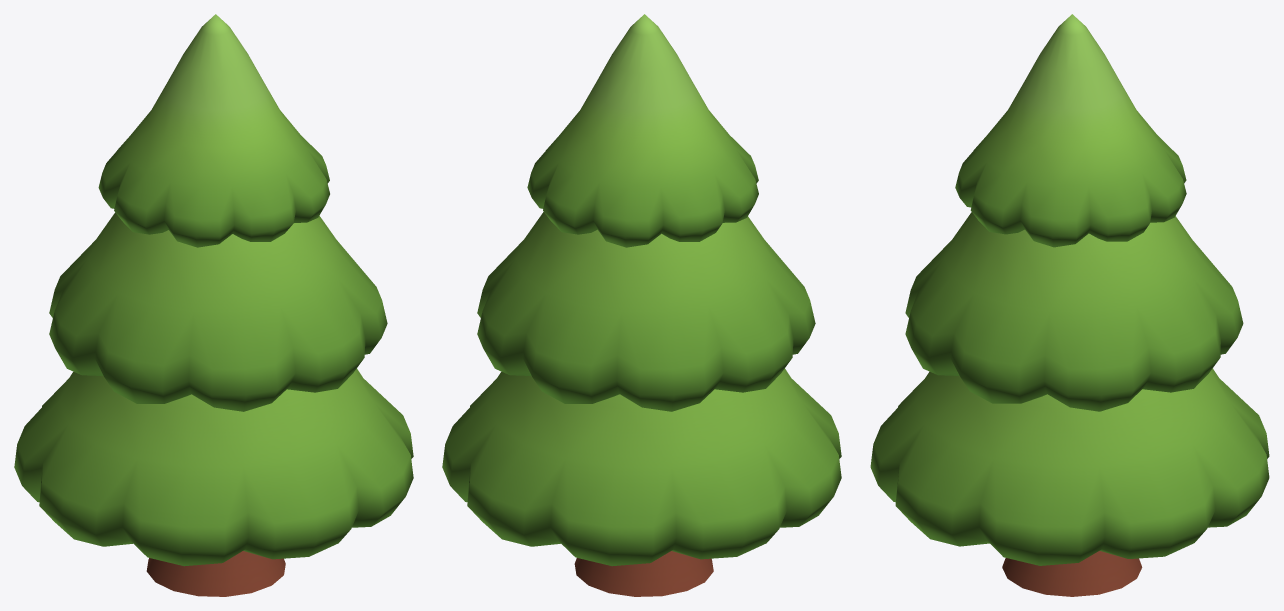
The model's file is Christmass_tree_indoor_001.fbx.
The picture shows the model from 3 angles, left to right: view 1: azimuth 30°, elevation 25°; view 2: azimuth 150°, elevation 25°; view 3: azimuth 270°, elevation 25°; orthographic projection.
Parts seen in each view (by area): view 1: Christmass_tree_indoor_001; view 2: Christmass_tree_indoor_001; view 3: Christmass_tree_indoor_001.
Part boxes in pixels (x1,y1,x2,y2): Christmass_tree_indoor_001: [14, 14, 413, 596]; Christmass_tree_indoor_001: [442, 14, 841, 596]; Christmass_tree_indoor_001: [870, 14, 1269, 596].
Size of the model in its own units: 155 by 156 by 239.
